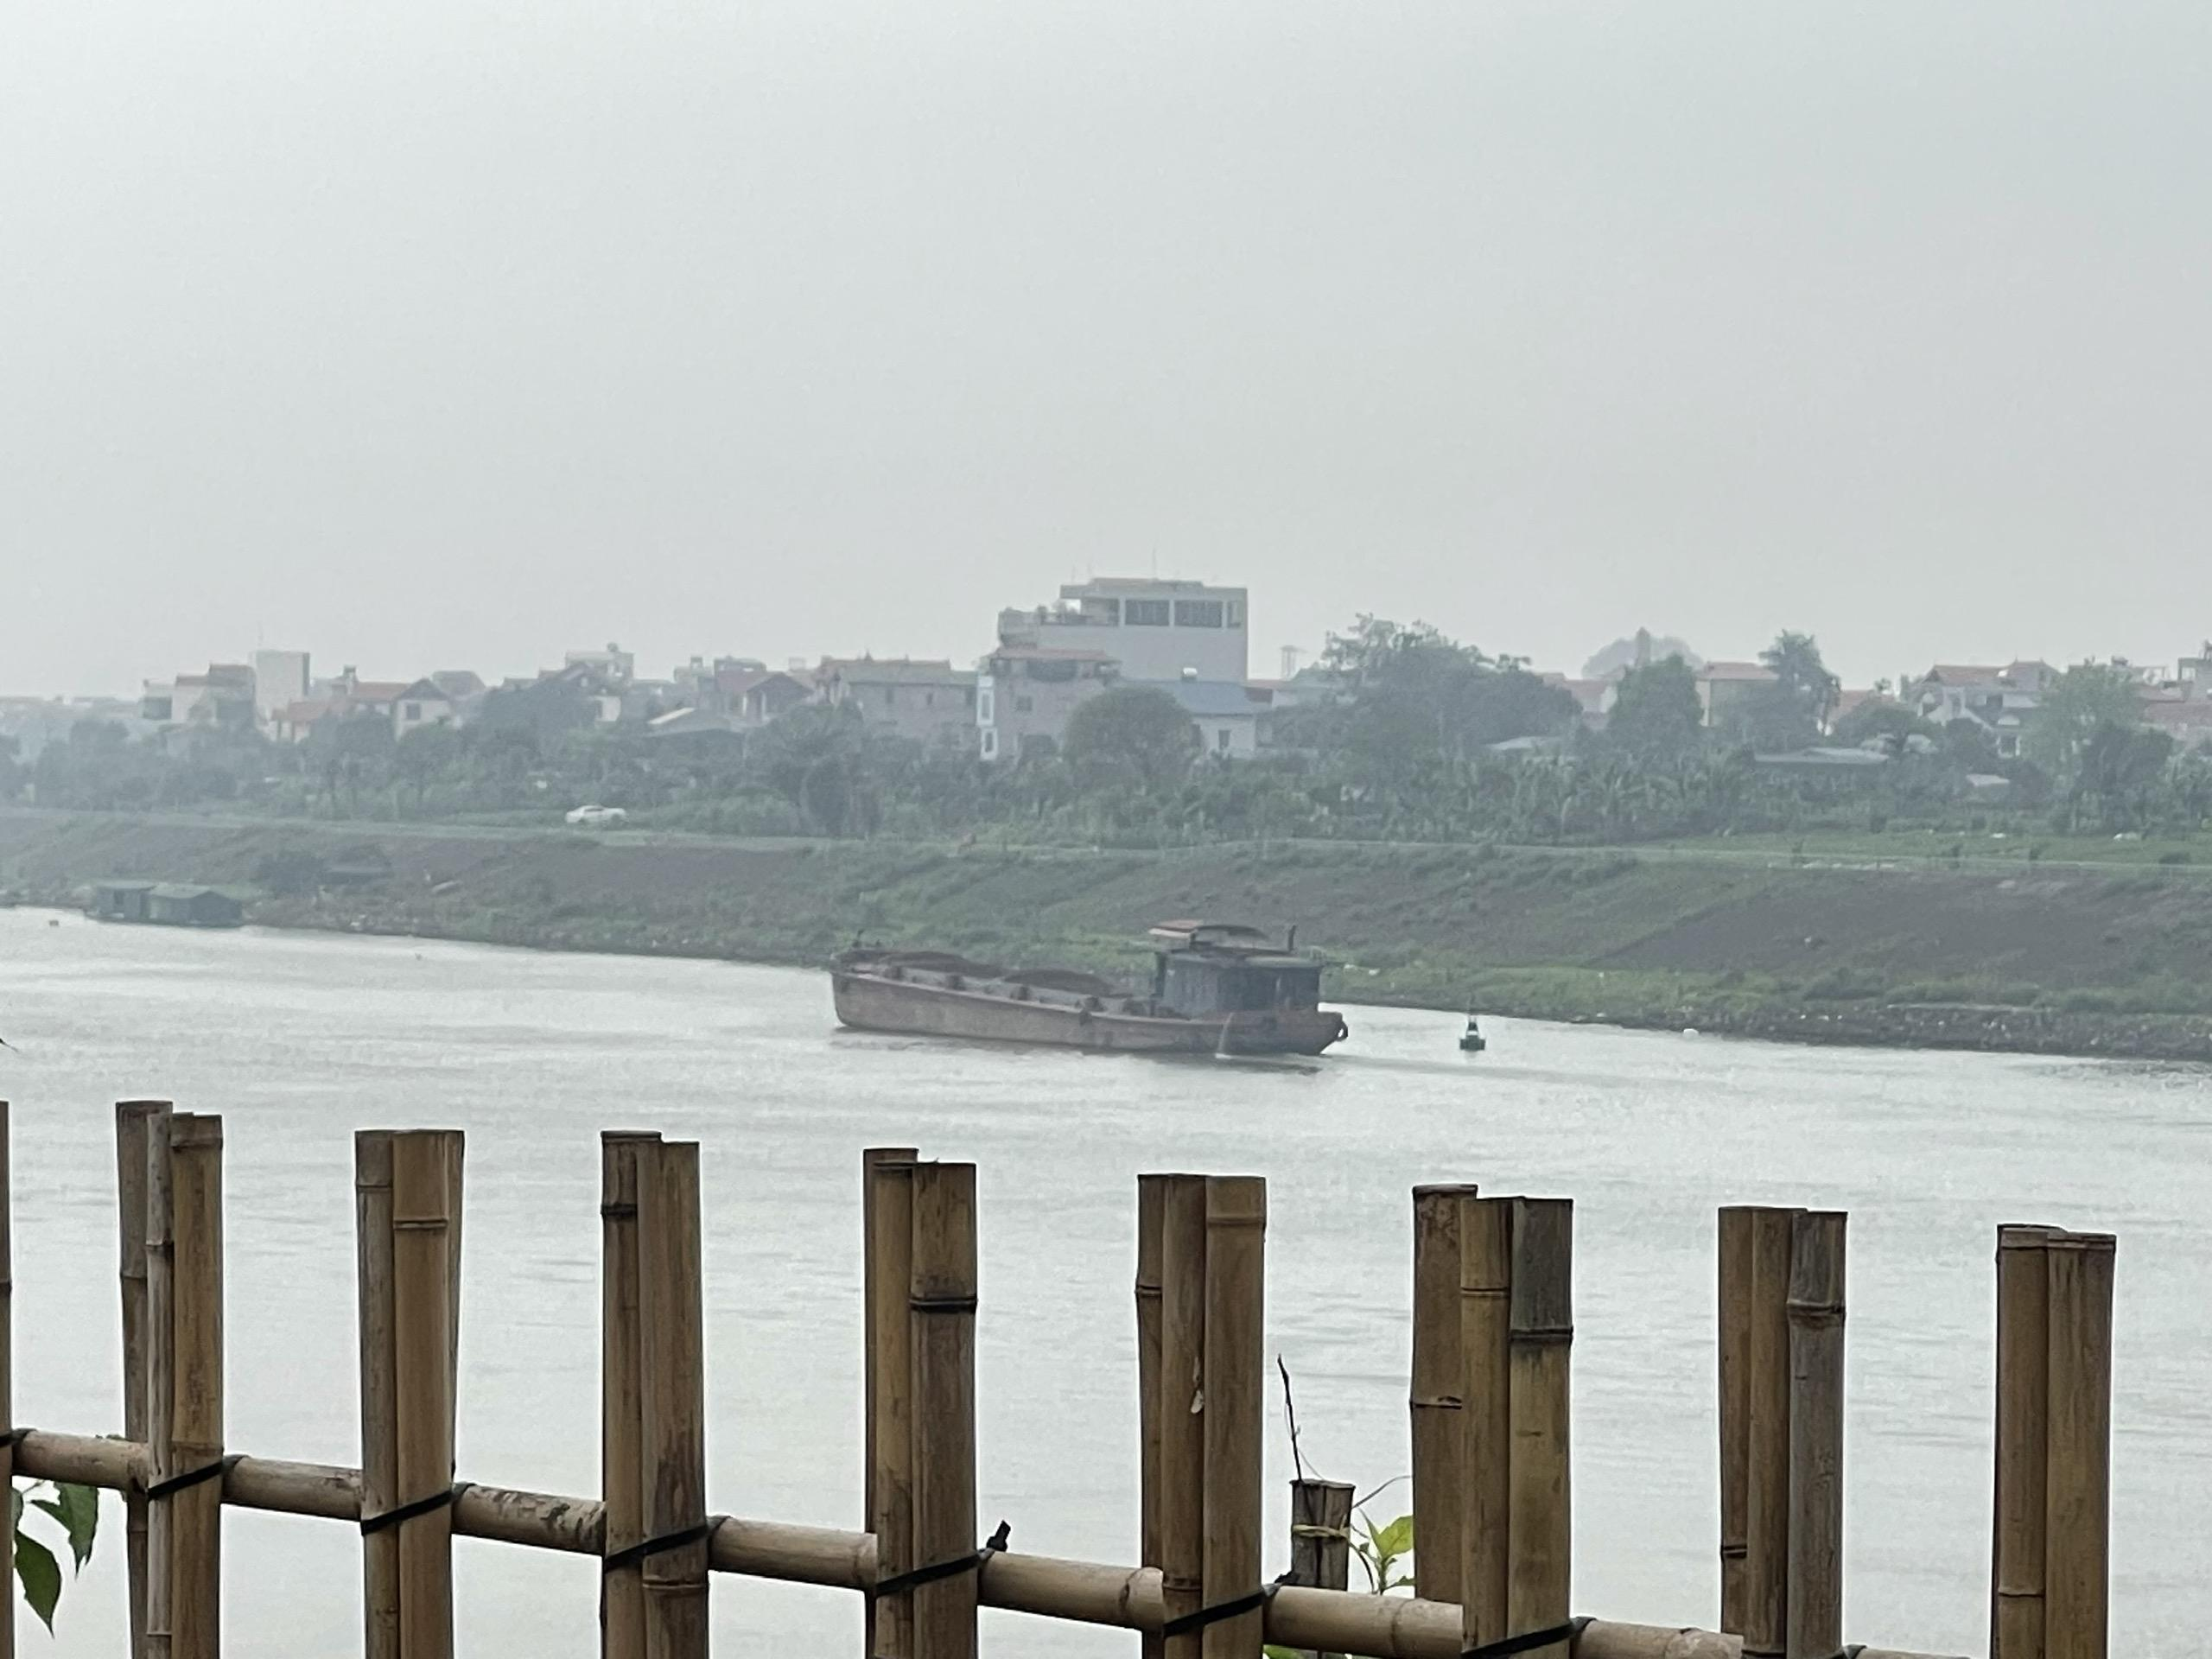Ship: (831, 918, 1362, 1066)
